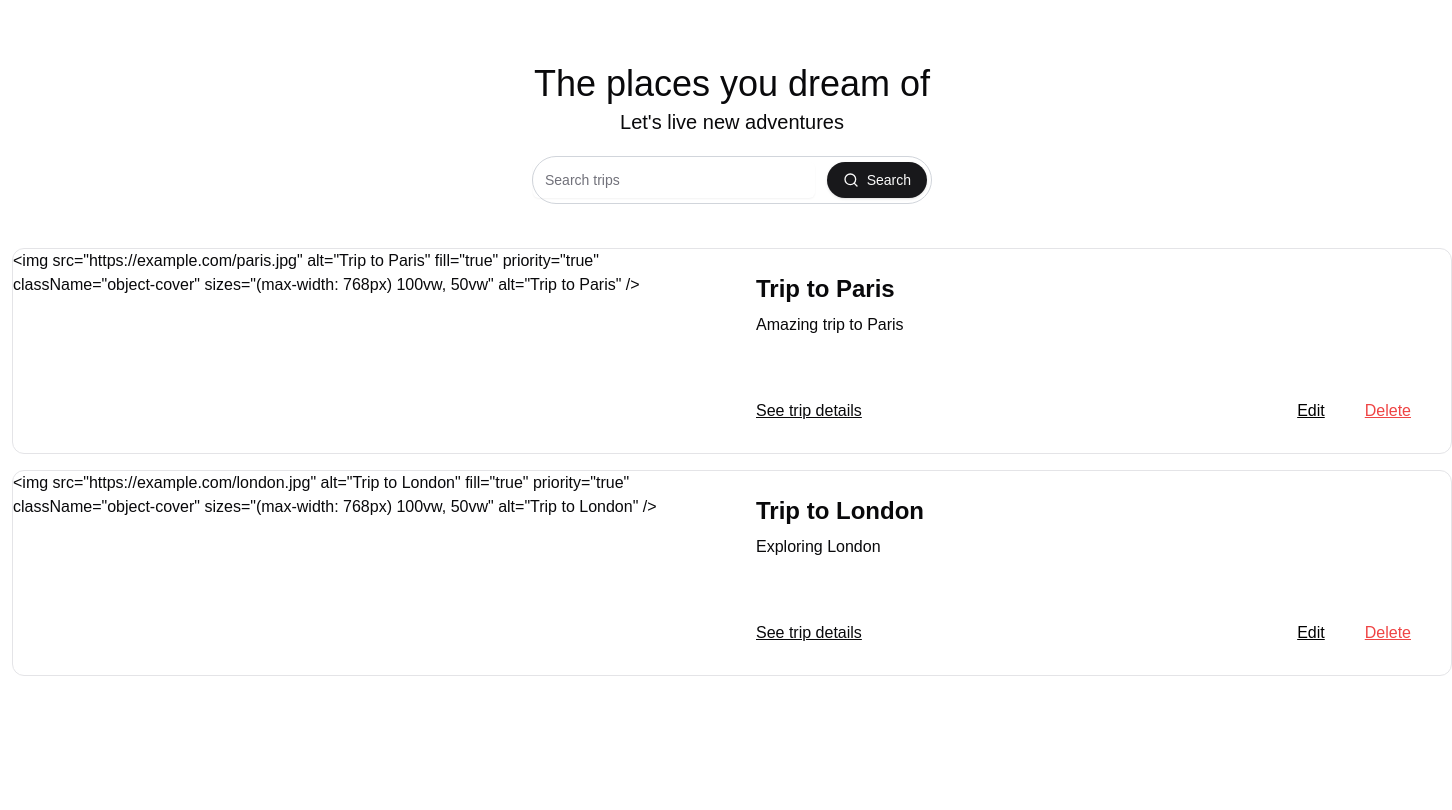
Test: Search Functionality › shows no results message when search has no matches
// Search for non-existent trip
Type "Tokyo" into the search field with placeholder "Search trips" at (674, 180), box [533,162,815,198]
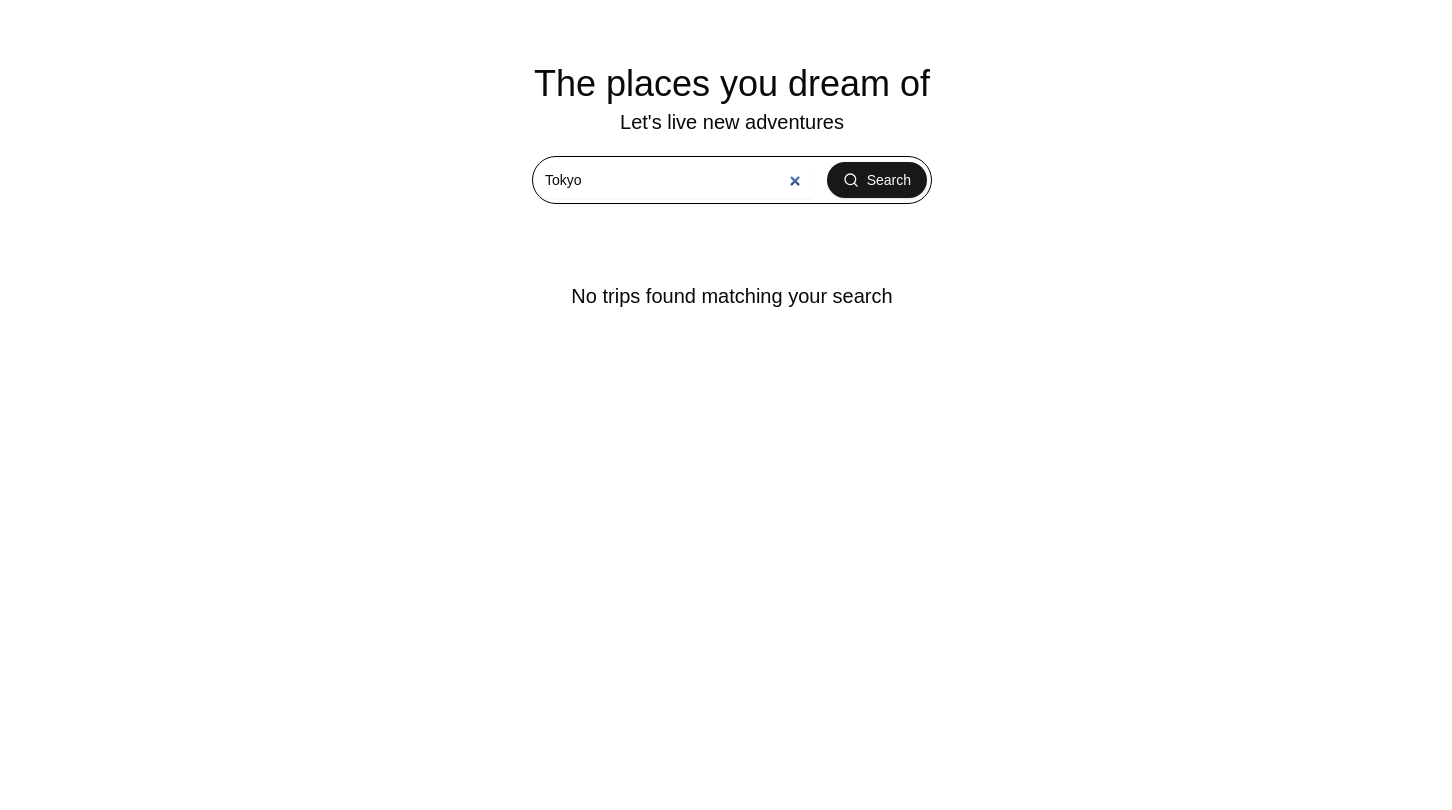
Now the heading "No trips found matching your search" is shown, box [571,282,893,310]
Now the text "Trip to Paris" is gone
Now the text "Trip to London" is gone
